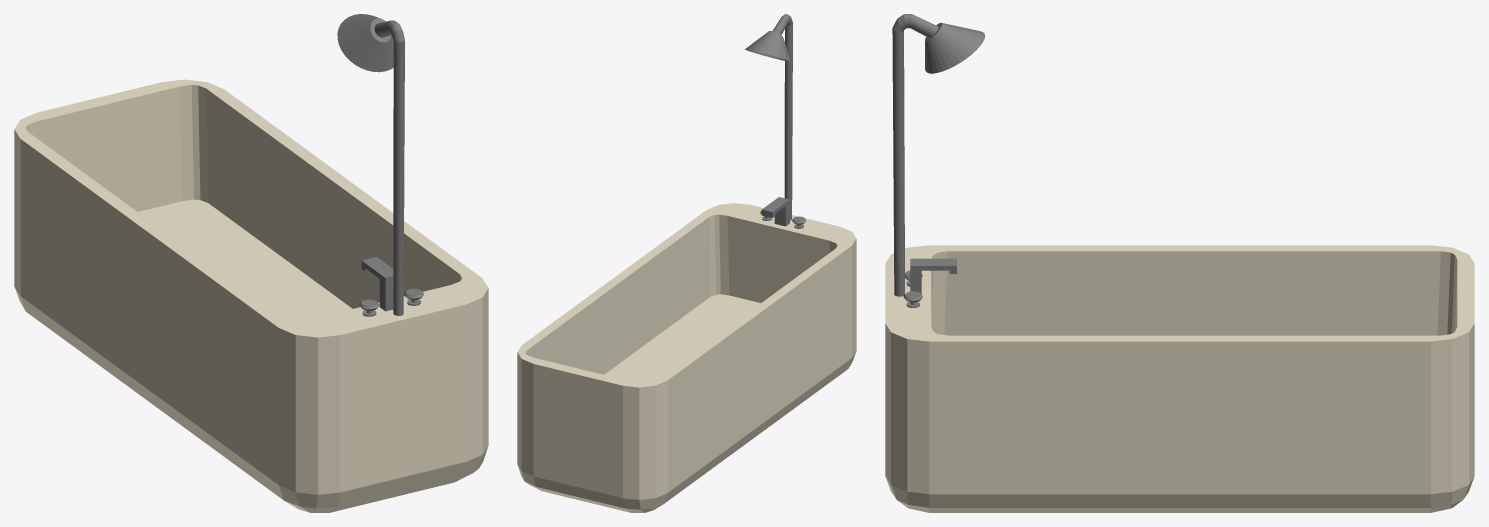
The model's file is bathtub.fbx.
3 renders of one model, left to right at view 1: azimuth 30°, elevation 25°; view 2: azimuth 150°, elevation 25°; view 3: azimuth 270°, elevation 25°, orthographic. The views are drawn at different scales.
Parts seen in each view (by area): view 1: Bathtub, Shower, fauset - bath; view 2: Bathtub, Shower, fauset - bath; view 3: Bathtub, Shower, fauset - bath.
Boxes of the visible parts, x1,y1,x2,y2 form: Bathtub: [14, 79, 488, 512]; Shower: [337, 14, 404, 315]; fauset - bath: [359, 257, 423, 316]; Bathtub: [517, 203, 856, 512]; Shower: [745, 14, 792, 220]; fauset - bath: [760, 197, 806, 228]; Bathtub: [885, 245, 1474, 512]; Shower: [892, 14, 984, 296]; fauset - bath: [903, 258, 956, 307].
Bounding box in the file's own units: 238 × 536 × 615.
